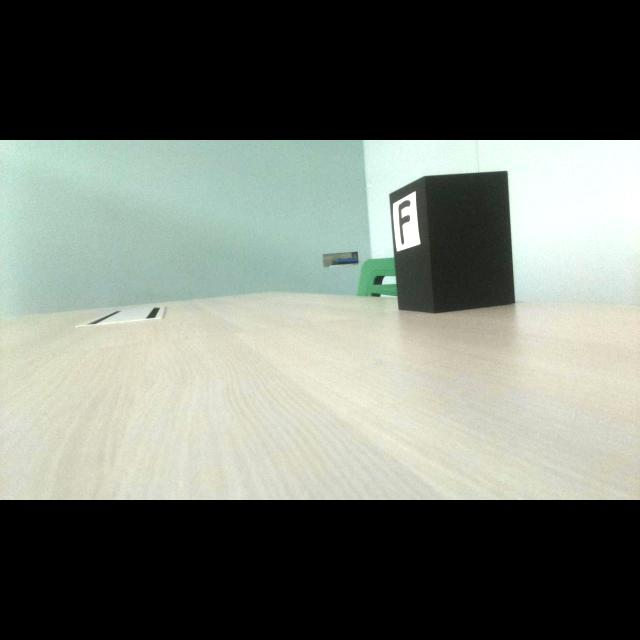F: (399, 201, 410, 245)
